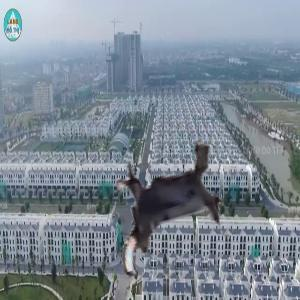drone: (96, 132, 245, 281)
